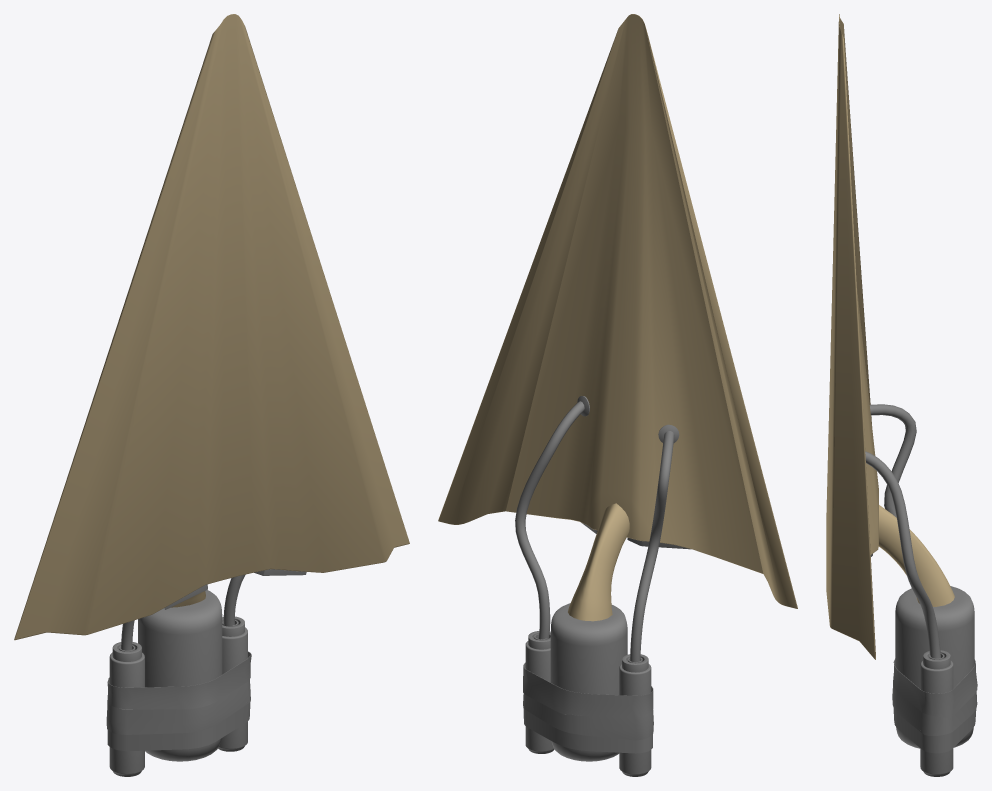
File: SM_Truelle.fbx
3 views of the same model, side by side, from view 1: azimuth 30°, elevation 25°; view 2: azimuth 150°, elevation 25°; view 3: azimuth 270°, elevation 25° (orthographic). The views are drawn at different scales.
Parts seen in each view (by area): view 1: Truelle; view 2: Truelle; view 3: Truelle.
Boxes of the visible parts, left/top/right/bottom form: Truelle: left=14, top=14, right=409, bottom=776; Truelle: left=438, top=14, right=797, bottom=776; Truelle: left=826, top=14, right=977, bottom=776.
Bounding box in the file's own units: 0.5283 × 0.9976 × 0.1864.
